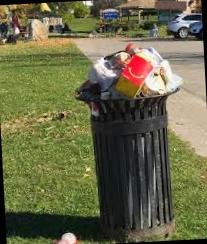trash: (82, 34, 180, 97), (36, 221, 82, 244)
trash_can_overflow: (84, 14, 187, 240)
